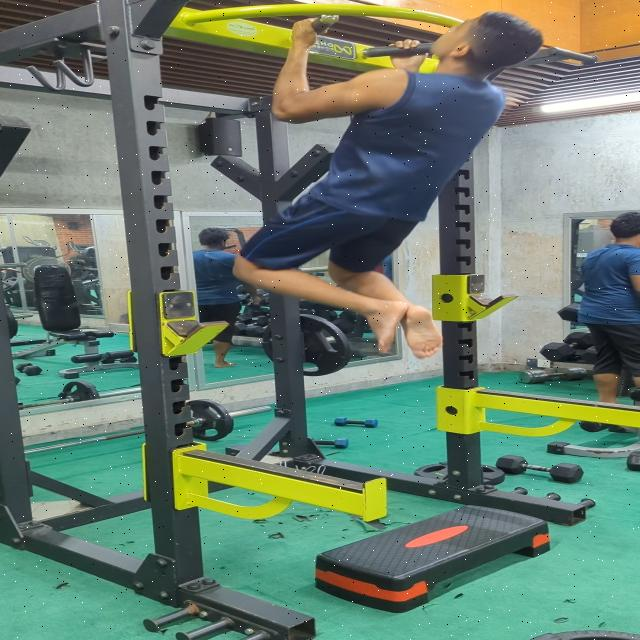Normal_PullUps: (216, 0, 550, 363)
